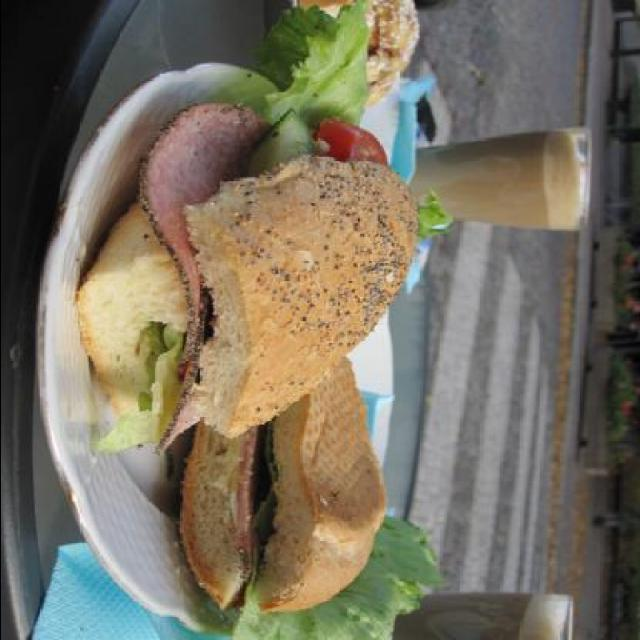Sandwich: (77, 0, 451, 638)
